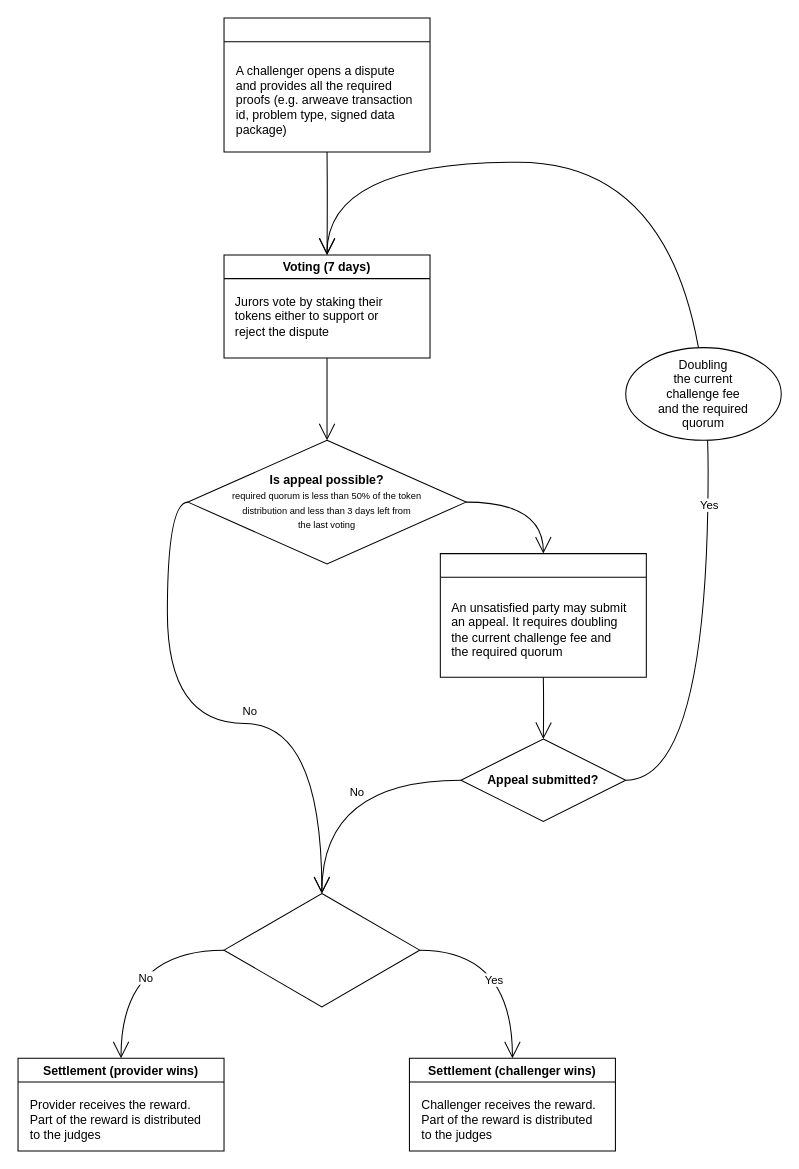
The diagram is 799 pixels wide and 1169 high, and some of its shapes have lost their labels. Each missing label, with the box of its shape:
Appeal (optional): (439, 553, 646, 677)
Has the majority of jurors supported the dispute in the last voting?: (223, 892, 420, 1007)
Opening dispute: (223, 17, 430, 152)
